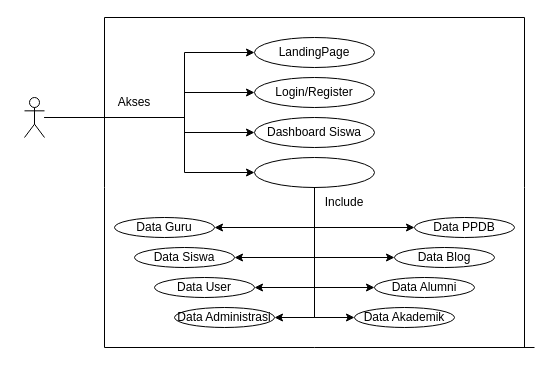
Image size: 553x366. Some labels were removed from this diagram. Each missing label, with the centre of its shape:
"Admin" goes at [34,117].
"Dashboard Admin" goes at [314,172].
